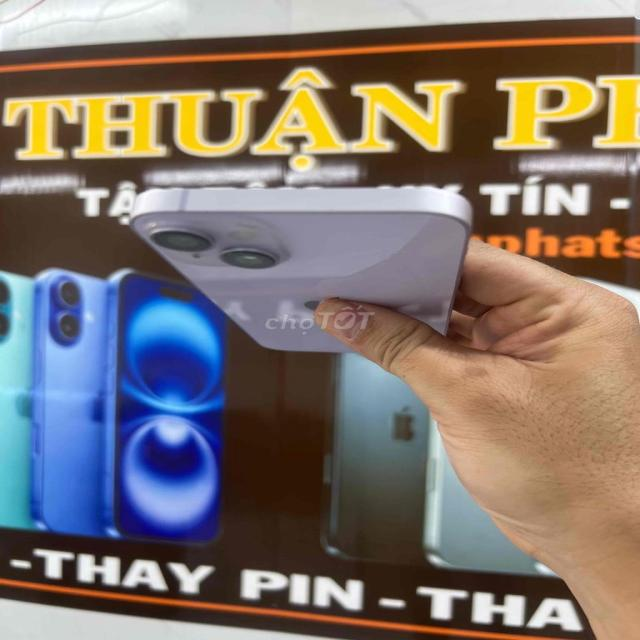gen_14: (136, 175, 472, 363)
